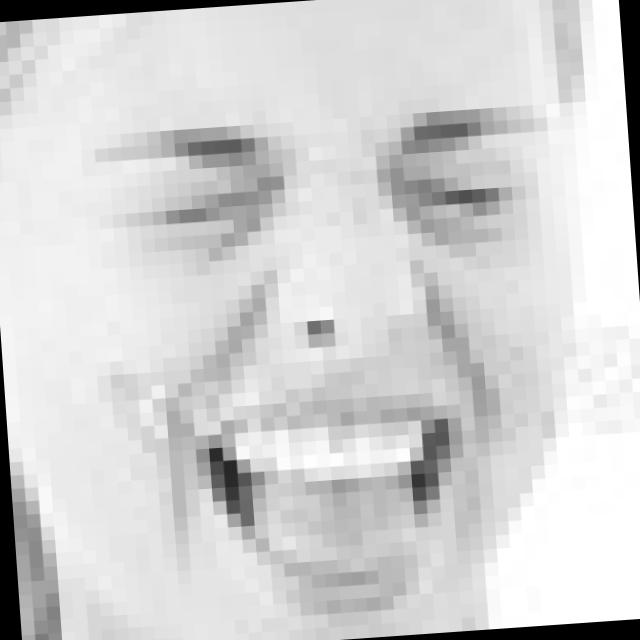disgust: (87, 101, 572, 640)
